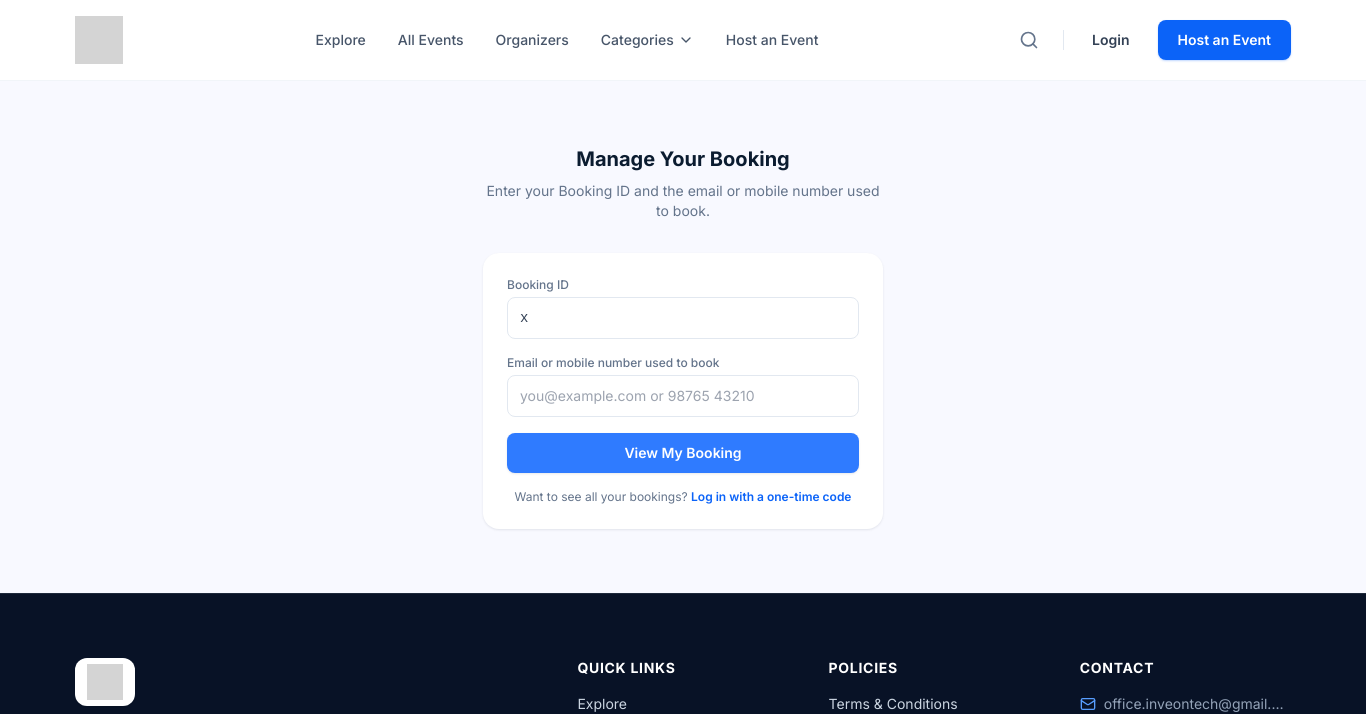
it: post-event photos & videos link › customers see the organizer's shared link on their booking page
In the field with placeholder "INV-BKG-2026-AB12CD": (683, 318) [507,297,859,339], type "INV-BKG-2026-GALLERY1"
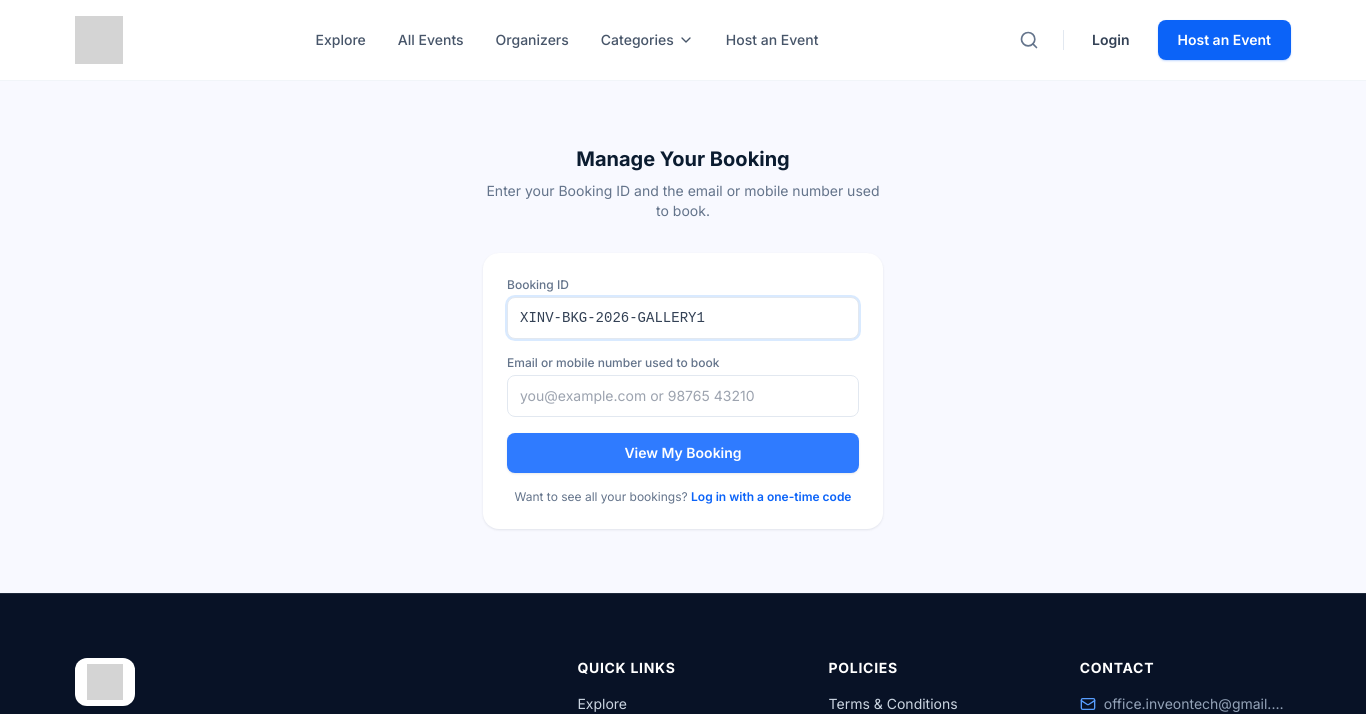
In the field with placeholder "you@example.com or 98765 43210": (683, 396) [507,375,859,417], type "asha@example.com"
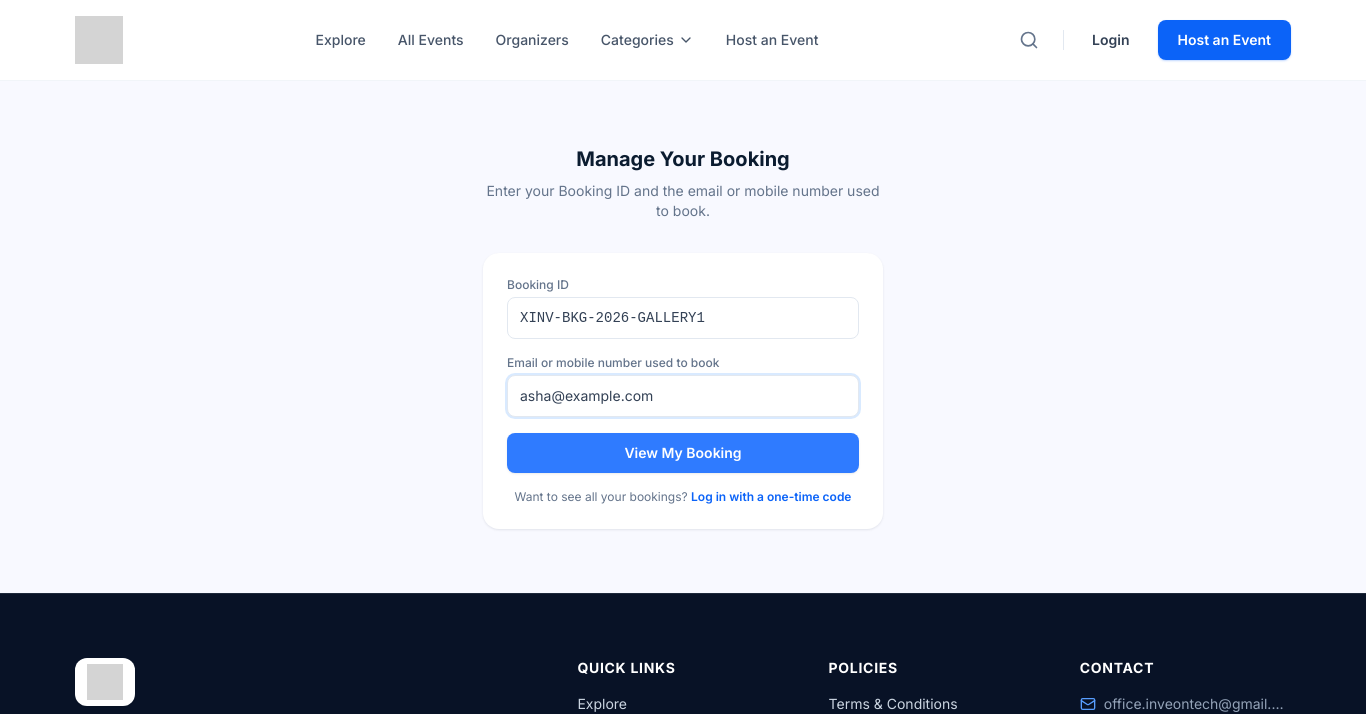
Click the button "View My Booking": (683, 453) [507,433,859,473]
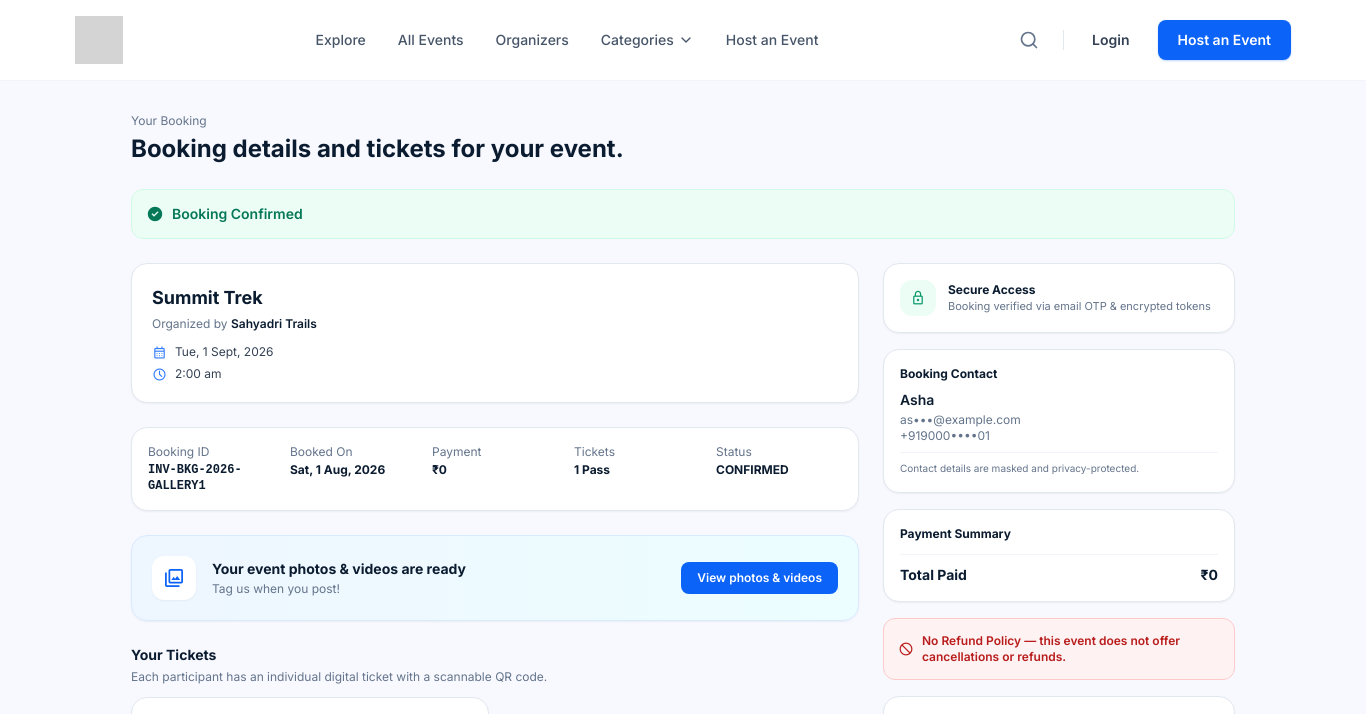
expect the text "Tag us when you post!" is shown: met, box [212,581,340,596]
